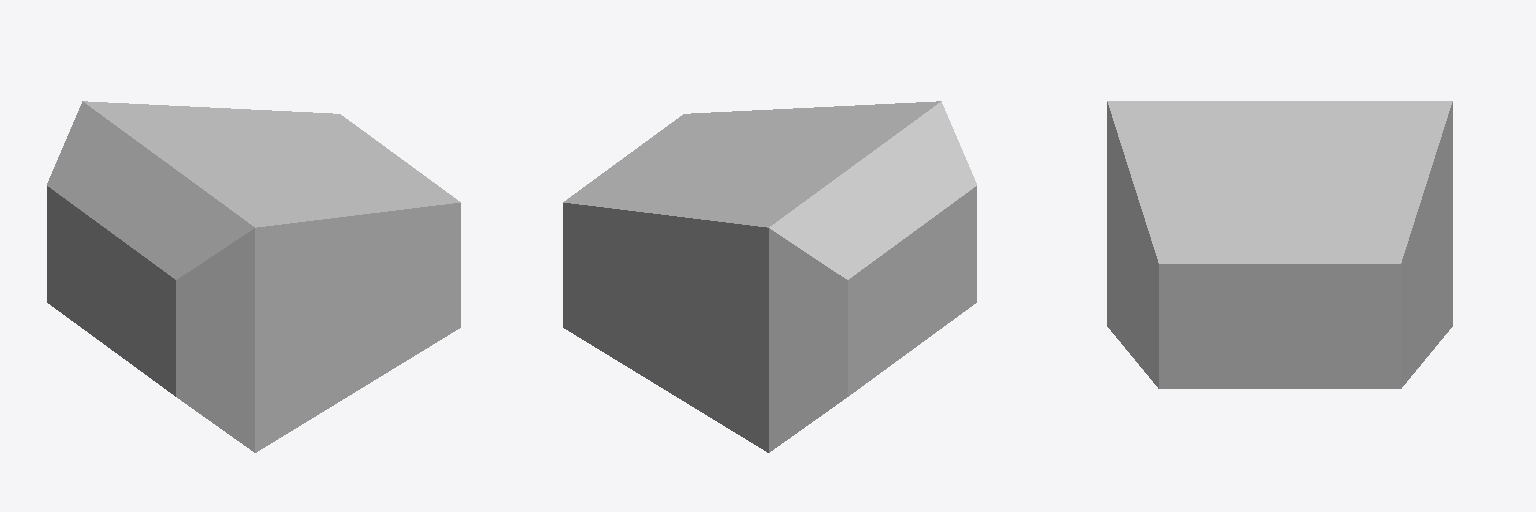
The model's file is Arm_L.obj.
3 renders of one model, left to right at view 1: azimuth 30°, elevation 25°; view 2: azimuth 150°, elevation 25°; view 3: azimuth 270°, elevation 25°, orthographic.
Parts seen in each view (by area): view 1: Arm_L; view 2: Arm_L; view 3: Arm_L.
Boxes of the visible parts, <box> form: Arm_L: <box>47,101,460,452</box>; Arm_L: <box>563,101,976,452</box>; Arm_L: <box>1107,101,1452,388</box>.
Bounding box in the file's own units: 0.3609 × 0.269 × 0.3737.